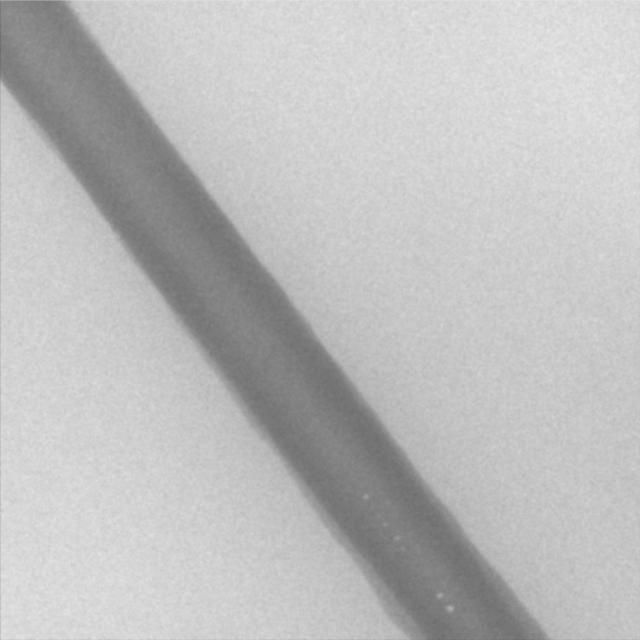air hole: (434, 589, 445, 601), (445, 603, 455, 614), (361, 490, 370, 501)
